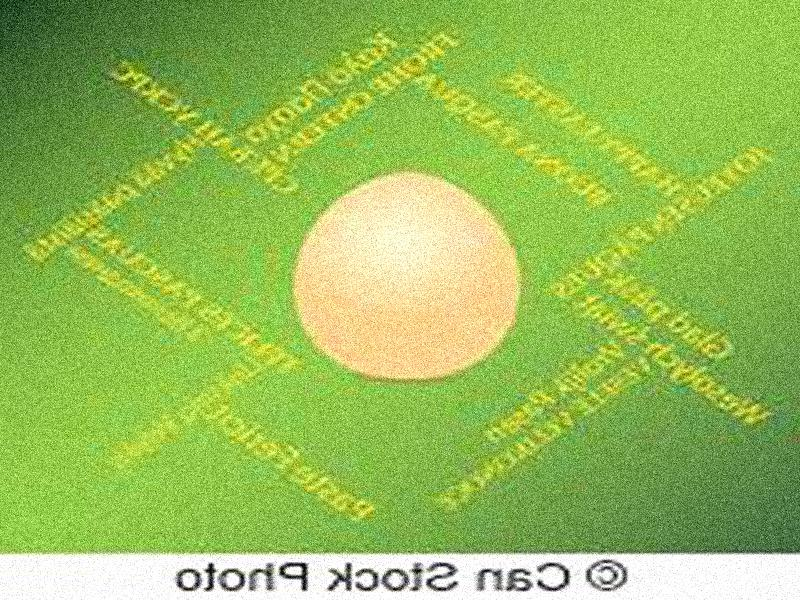Eggs: (297, 172, 519, 378)
